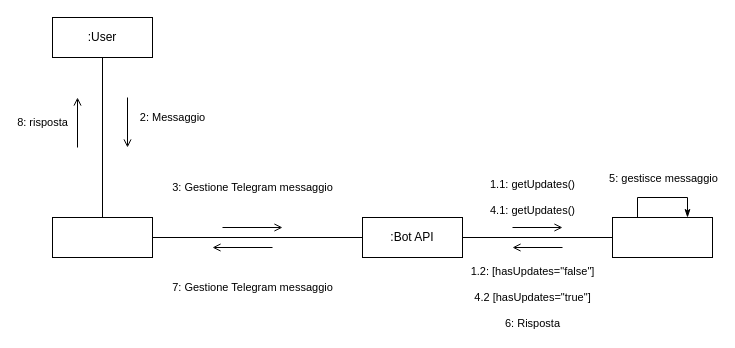
The diagram is 735 pixels wide and 348 high, and some of its shapes have lost their labels. The box of each missing label's shape, as (x1, y1, x2, y2) in pixels:
:codice: (612, 216, 712, 258)
:conversazione bot: (52, 216, 152, 258)
